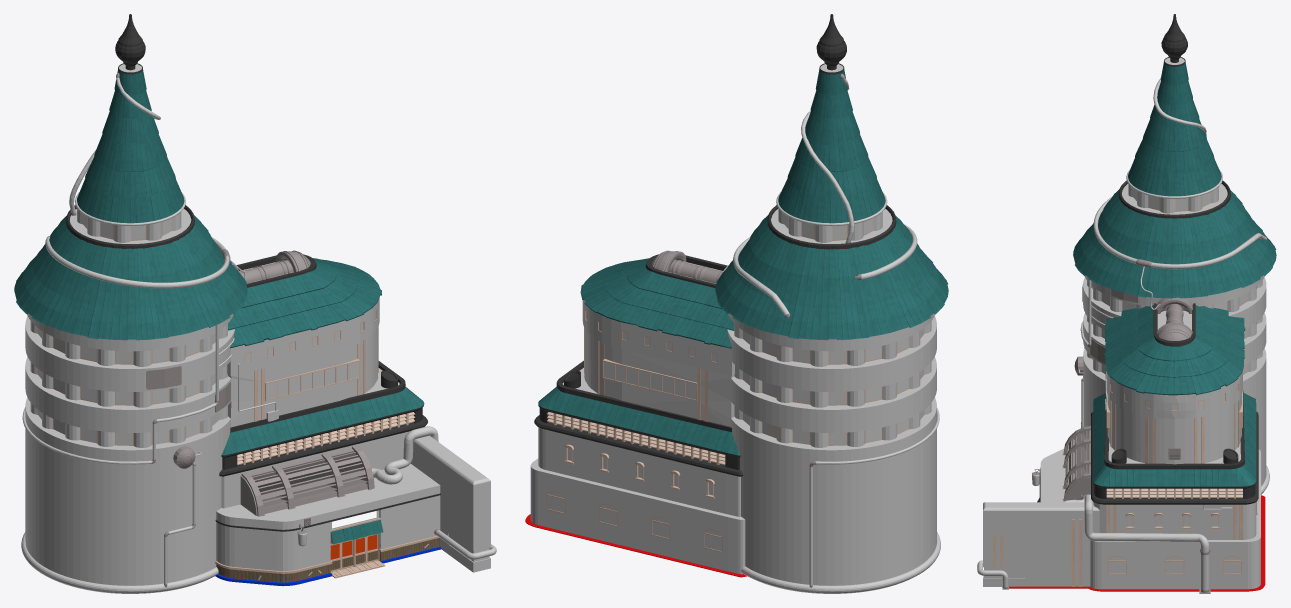
File: SM_ENV_KNVLLG_AreaD_Tower_B.mo.fbx
3 views of the same model, side by side, from view 1: azimuth 30°, elevation 25°; view 2: azimuth 150°, elevation 25°; view 3: azimuth 270°, elevation 25° (orthographic). The views are drawn at different scales.
Parts seen in each view (by area): view 1: SM_ENV_KNVLLG_AreaD_Tower_B.mo; view 2: SM_ENV_KNVLLG_AreaD_Tower_B.mo; view 3: SM_ENV_KNVLLG_AreaD_Tower_B.mo.
Boxes of the visible parts, x1,y1,x2,y2 form: SM_ENV_KNVLLG_AreaD_Tower_B.mo: (14,14,496,593); SM_ENV_KNVLLG_AreaD_Tower_B.mo: (525,14,948,593); SM_ENV_KNVLLG_AreaD_Tower_B.mo: (977,14,1276,593).
Bounding box in the file's own units: 38.71 × 53.67 × 31.21.
